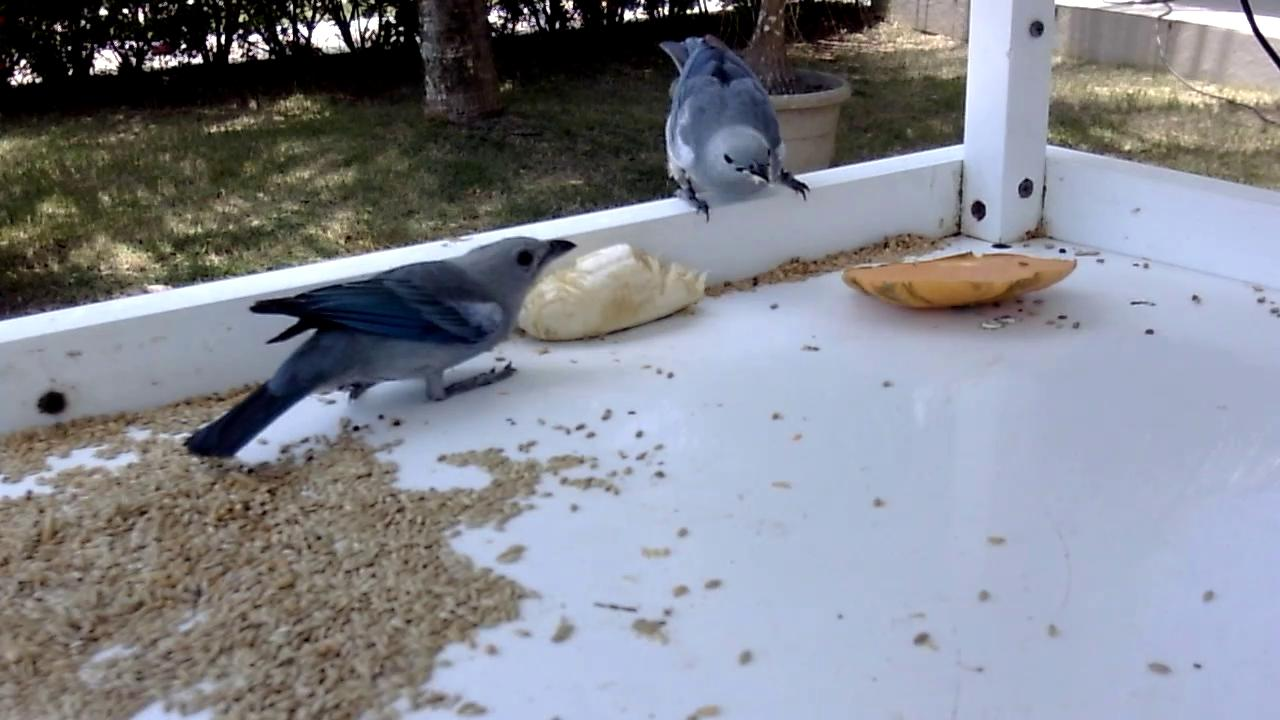sanhaco_da_amazonia: (182, 235, 578, 463), (653, 35, 811, 225)
